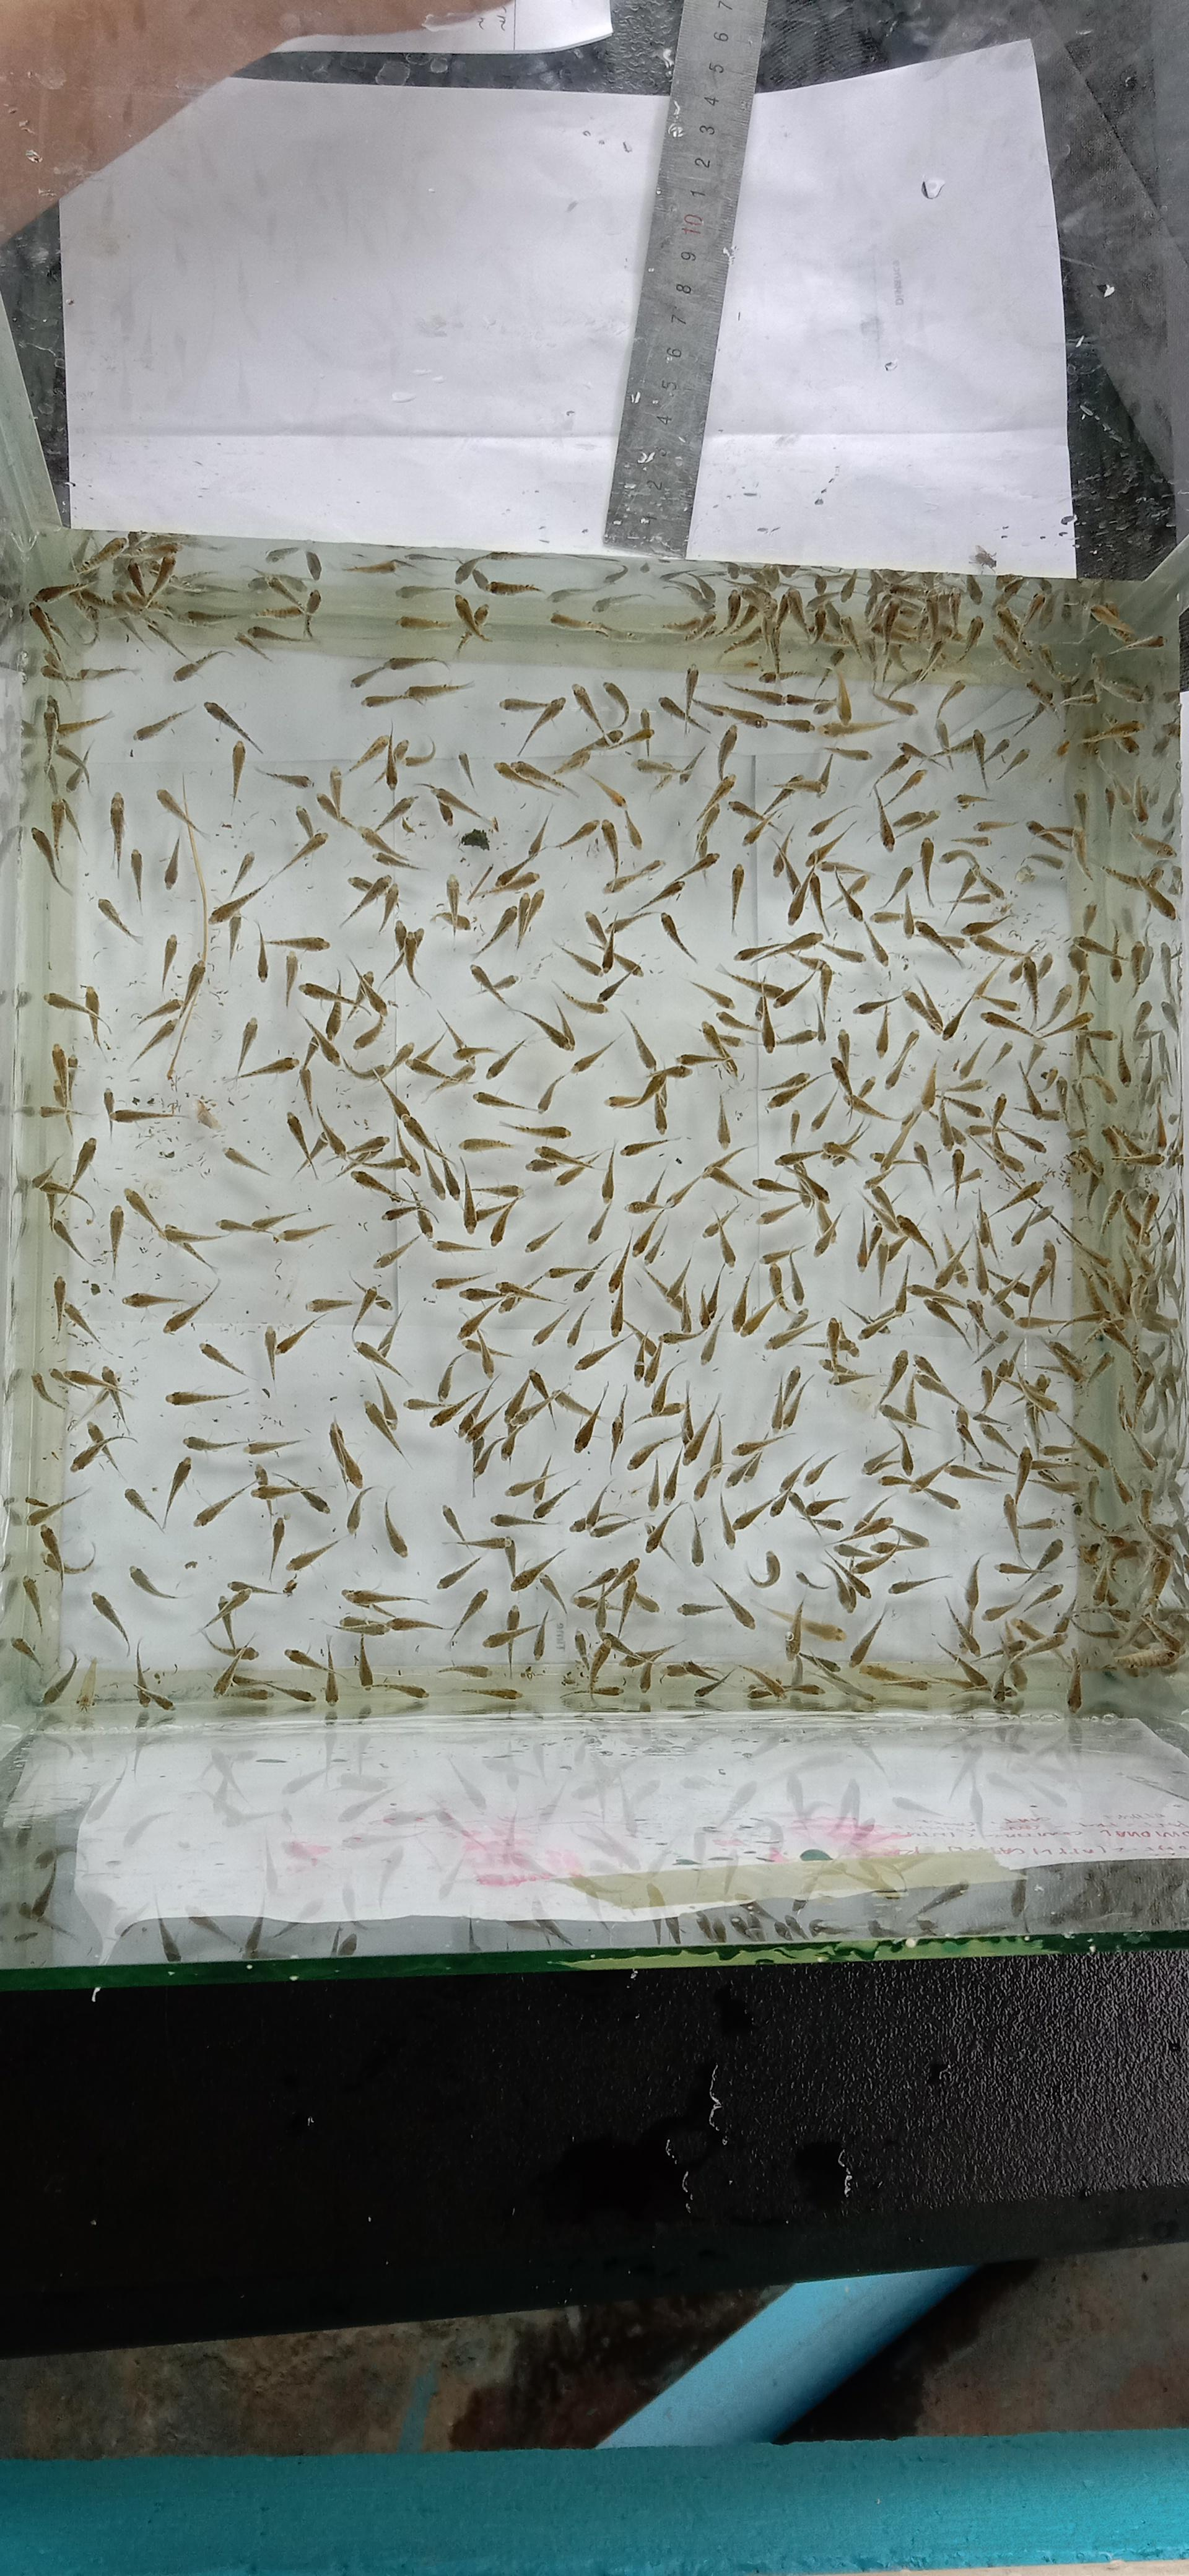fish: (209, 830, 328, 925), (31, 1136, 98, 1263), (123, 1186, 220, 1274), (315, 791, 417, 871), (619, 850, 719, 924), (490, 811, 551, 894), (473, 887, 545, 955), (380, 1080, 440, 1154), (800, 1653, 876, 1708), (587, 773, 643, 847), (716, 964, 812, 1007), (499, 694, 565, 755), (572, 679, 632, 746), (1103, 863, 1176, 918), (45, 986, 107, 1051), (256, 925, 329, 979), (73, 588, 143, 643), (418, 781, 497, 830), (606, 1064, 689, 1110), (250, 1471, 329, 1516), (53, 1276, 100, 1347), (528, 1142, 604, 1186), (494, 758, 578, 798), (339, 873, 398, 930), (203, 699, 263, 755), (350, 655, 446, 689), (559, 970, 634, 1013), (28, 825, 76, 894), (362, 681, 473, 710), (69, 1423, 132, 1474), (693, 772, 736, 845), (437, 1008, 495, 1061), (361, 1400, 409, 1463), (482, 1606, 544, 1655), (734, 929, 823, 964), (600, 1630, 678, 1668), (133, 1643, 175, 1713), (162, 1282, 219, 1334), (38, 1526, 95, 1575), (785, 1490, 848, 1534), (155, 786, 210, 837), (359, 824, 419, 870), (1104, 1643, 1178, 1680), (574, 1558, 638, 1599), (515, 1005, 575, 1049), (634, 746, 705, 784), (25, 1487, 93, 1526), (429, 874, 474, 933), (331, 1134, 388, 1180), (201, 1590, 250, 1643), (697, 1019, 739, 1079), (911, 919, 967, 965), (1079, 716, 1143, 756), (328, 1419, 364, 1488), (769, 1366, 808, 1430), (446, 1588, 489, 1647), (193, 1484, 248, 1528), (37, 1647, 78, 1707), (847, 1609, 887, 1669), (510, 1548, 567, 1590), (708, 1578, 754, 1630), (661, 570, 718, 611), (300, 1011, 342, 1066), (350, 1282, 391, 1338), (603, 856, 664, 894), (349, 960, 391, 1015), (392, 921, 425, 989), (354, 1339, 407, 1381), (90, 1591, 129, 1647), (453, 593, 492, 647), (472, 907, 516, 955), (703, 1161, 757, 1200), (209, 885, 263, 925), (133, 1017, 176, 1064), (657, 695, 709, 736), (573, 1333, 629, 1371), (504, 1455, 554, 1497), (765, 1310, 817, 1351), (623, 1012, 657, 1073), (53, 738, 92, 791), (134, 705, 191, 741), (163, 1455, 193, 1523), (469, 962, 517, 1004), (173, 648, 232, 681), (40, 663, 137, 683), (95, 896, 139, 942), (27, 601, 66, 652), (341, 1587, 428, 1609), (123, 1186, 161, 1236), (344, 732, 390, 773), (219, 1209, 297, 1234), (50, 1218, 91, 1263), (765, 1070, 815, 1108), (660, 911, 697, 961), (285, 1538, 340, 1572), (484, 1037, 528, 1079), (532, 1480, 578, 1520), (662, 611, 718, 643), (128, 1564, 178, 1600), (514, 888, 545, 946), (549, 609, 616, 636), (51, 1366, 118, 1391), (274, 1317, 320, 1355), (123, 1487, 163, 1529), (199, 1341, 246, 1377), (625, 1437, 673, 1472), (165, 1388, 248, 1408), (660, 1658, 723, 1684), (300, 980, 358, 1008), (375, 736, 404, 791), (731, 1431, 790, 1458), (492, 861, 539, 895), (621, 1134, 686, 1159), (237, 1054, 298, 1079), (50, 1043, 76, 1102), (383, 1497, 409, 1557), (688, 978, 734, 1011), (374, 1235, 420, 1268), (692, 1667, 733, 1705), (572, 1038, 616, 1072), (222, 1145, 270, 1177), (377, 794, 416, 832), (487, 1199, 518, 1247), (500, 1118, 570, 1139), (45, 990, 97, 1017), (436, 1558, 482, 1590), (887, 1573, 949, 1597), (266, 1515, 287, 1582), (262, 932, 329, 953), (808, 805, 853, 837), (744, 1551, 782, 1588), (108, 791, 126, 869), (431, 1062, 476, 1093), (226, 1578, 297, 1598), (205, 1635, 258, 1661), (555, 818, 599, 849), (587, 773, 627, 807), (453, 553, 494, 586), (29, 1371, 65, 1409), (273, 1222, 335, 1243), (56, 711, 110, 736), (345, 1486, 372, 1533), (524, 1220, 563, 1252), (351, 1014, 386, 1050), (107, 1206, 124, 1276), (111, 1105, 181, 1122), (237, 1017, 259, 1071), (235, 629, 272, 661), (716, 724, 739, 776), (245, 1437, 302, 1458), (474, 1090, 531, 1110), (123, 1290, 185, 1308), (394, 583, 456, 601), (162, 1223, 217, 1243), (588, 1515, 636, 1538), (136, 1682, 174, 1712), (255, 768, 311, 788), (285, 1647, 328, 1672), (728, 863, 744, 928), (229, 741, 247, 801), (385, 1616, 445, 1634), (162, 835, 182, 887), (183, 1435, 242, 1453), (354, 1637, 374, 1689), (433, 1272, 490, 1290), (160, 933, 179, 990), (334, 1616, 387, 1636), (281, 950, 299, 1007), (440, 1503, 466, 1543), (401, 737, 435, 766), (271, 1682, 315, 1705), (397, 613, 451, 632), (485, 577, 538, 596), (853, 994, 899, 1016), (344, 558, 401, 575), (490, 1512, 547, 1528), (261, 1325, 277, 1383), (458, 1136, 510, 1154), (194, 1096, 221, 1130), (379, 1682, 427, 1701), (461, 1687, 521, 1702), (306, 1296, 355, 1313), (129, 848, 144, 902), (433, 1238, 484, 1254), (457, 828, 490, 850), (456, 751, 476, 788), (677, 1601, 716, 1617)
